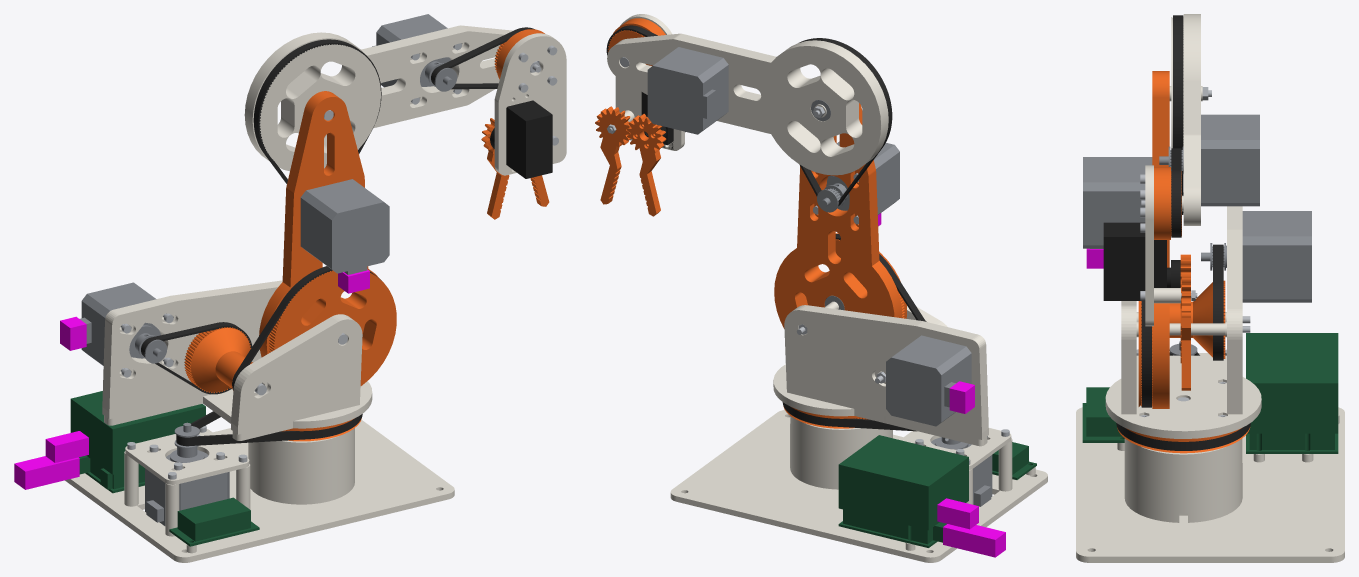
Rendered from assembly.glb.
3 renders of one model, left to right at view 1: azimuth 30°, elevation 25°; view 2: azimuth 150°, elevation 25°; view 3: azimuth 270°, elevation 25°, orthographic. The views are drawn at different scales.
Parts seen in each view (by area): view 1: turret, base, upper-shank, lower-shank, elbow-motor, gripper-base, uno-cnc-shield, gripper-servo, sh-compound, yaw-motor-plate, shoulder-motor, buck-converter (+10 smaller); view 2: base, upper-shank, turret, lower-shank, uno-cnc-shield, wrist-motor, shoulder-motor, uno-usb-keepout, finger-a, finger-b, elbow-motor, gripper-base (+9 smaller); view 3: base, turret, uno-cnc-shield, shoulder-motor, wrist-motor, elbow-motor, upper-shank, gripper-servo, lower-shank, gripper-base, buck-converter, belt-elbow (+11 smaller).
Boxes of the visible parts, x1,y1,x2,y2 form: turret: (102,280,372,440); base: (65,420,454,562); upper-shank: (244,25,512,171); lower-shank: (259,91,396,385); elbow-motor: (300,179,389,274); gripper-base: (494,33,566,175); uno-cnc-shield: (70,391,205,493); gripper-servo: (506,100,552,178); sh-compound: (184,327,252,393); yaw-motor-plate: (125,429,249,484); shoulder-motor: (80,282,166,365); buck-converter: (169,497,259,546); base: (670,410,1047,562); upper-shank: (607,33,888,175); turret: (773,305,988,446); lower-shank: (774,103,906,328); uno-cnc-shield: (838,435,968,547); wrist-motor: (647,47,728,134); shoulder-motor: (886,335,971,426); uno-usb-keepout: (937,498,1005,557); finger-a: (626,113,666,216); finger-b: (595,106,630,204); elbow-motor: (820,141,899,214); gripper-base: (615,14,684,150); base: (1076,407,1344,562); turret: (1105,206,1261,438); uno-cnc-shield: (1246,333,1338,453); shoulder-motor: (1201,211,1311,302); wrist-motor: (1159,114,1259,206); elbow-motor: (1083,157,1152,248); upper-shank: (1171,14,1200,225); gripper-servo: (1103,222,1170,300); lower-shank: (1138,71,1169,408); gripper-base: (1145,165,1180,326); buck-converter: (1082,387,1124,442); belt-elbow: (1173,15,1183,214).
Size of the model in its own units: 0.3497 by 0.3119 by 0.155.
